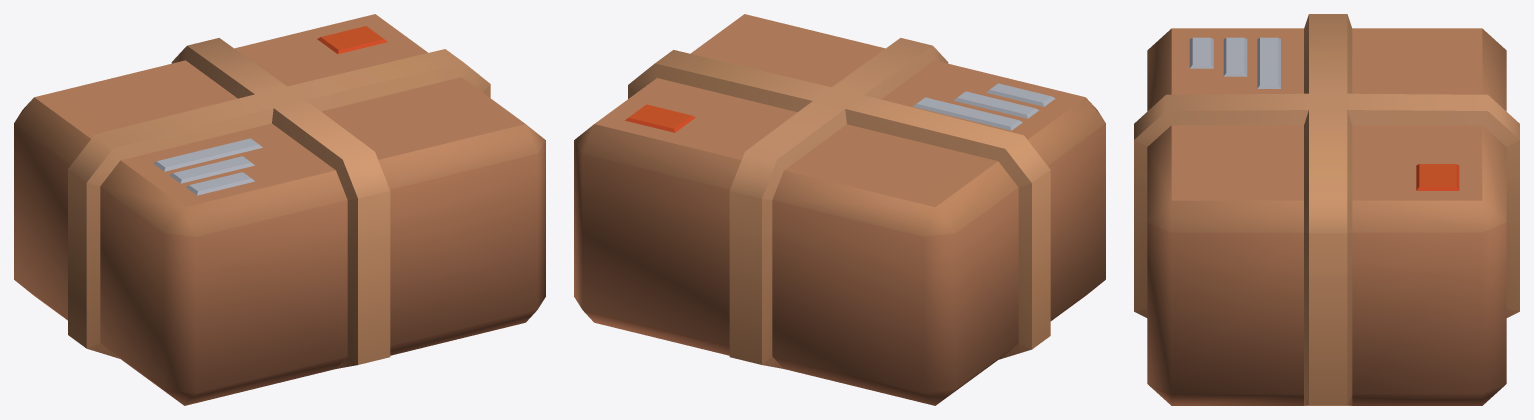
Rendered from paket.glb.
3 renders of one model, left to right at view 1: azimuth 30°, elevation 25°; view 2: azimuth 150°, elevation 25°; view 3: azimuth 270°, elevation 25°, orthographic. The views are drawn at different scales.
Visible parts, largest first — view 1: package; view 2: package; view 3: package.
Boxes of the visible parts, left/top/right/bottom form: package: left=14, top=14, right=545, bottom=405; package: left=574, top=14, right=1105, bottom=405; package: left=1134, top=14, right=1519, bottom=405.
Bounding box in the file's own units: 1 × 0.5001 × 0.8.
1 material, 1 textured.
